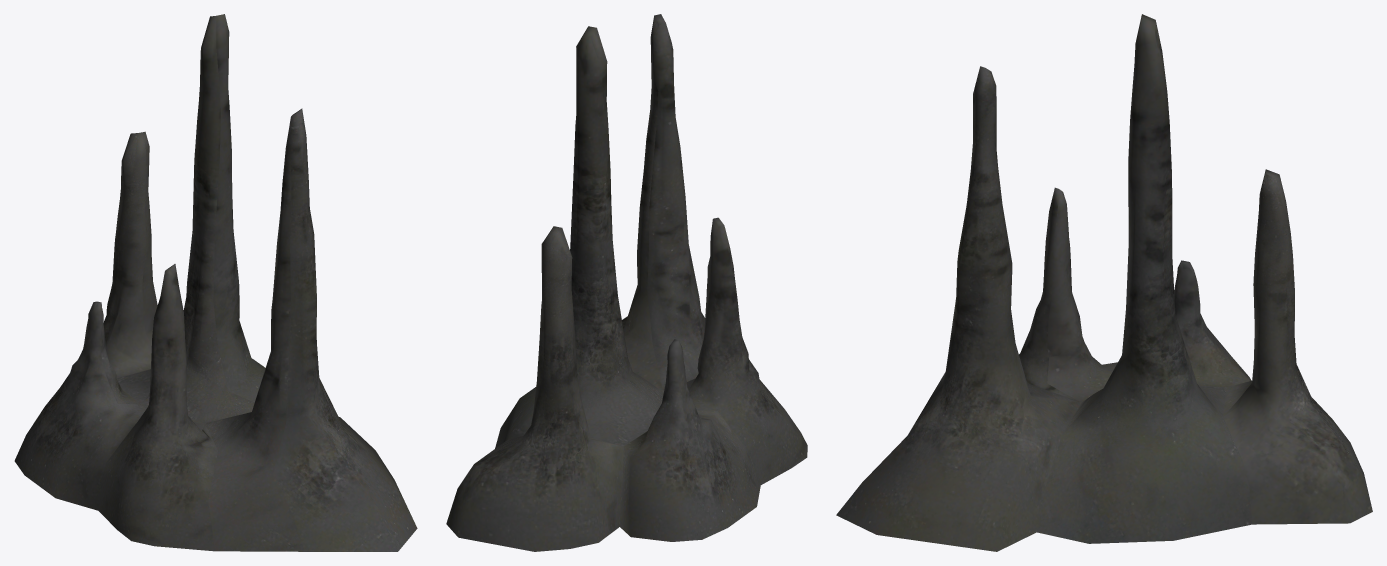
The model's file is rock_forest_stalgamite08.DAE.
3 renders of one model, left to right at view 1: azimuth 30°, elevation 25°; view 2: azimuth 150°, elevation 25°; view 3: azimuth 270°, elevation 25°, orthographic. The views are drawn at different scales.
Visible parts, largest first — view 1: LOWPOLYSTALGANITES; view 2: LOWPOLYSTALGANITES; view 3: LOWPOLYSTALGANITES.
Boxes of the visible parts, x1,y1,x2,y2 form: LOWPOLYSTALGANITES: (14,14,417,551); LOWPOLYSTALGANITES: (446,14,807,551); LOWPOLYSTALGANITES: (836,14,1372,551).
Size of the model in its own units: 2.39 by 3.71 by 3.76.
